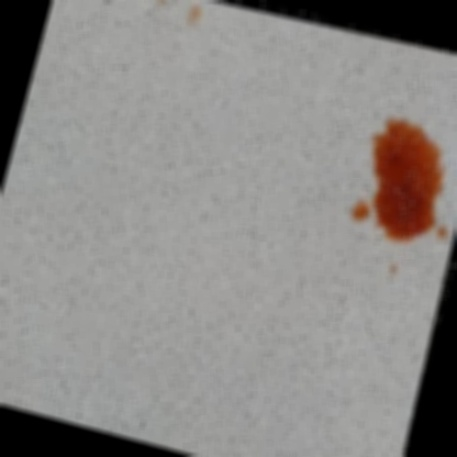kimchi: (337, 106, 457, 260), (373, 250, 403, 278), (181, 0, 207, 31), (146, 0, 168, 8)
